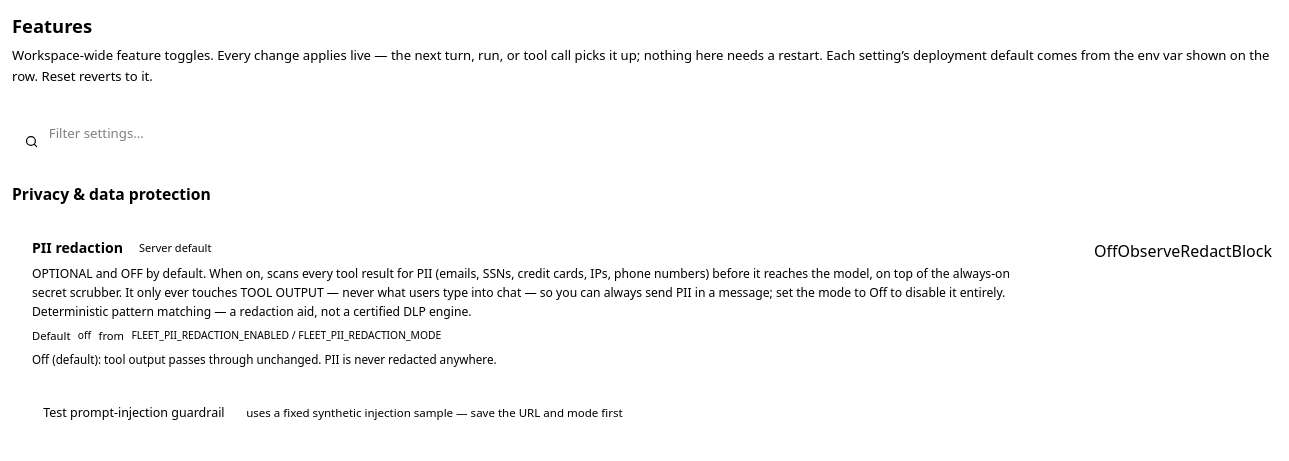
FeaturesAdminPage › surfaces a server rejection as a row error and keeps the old value
Click the button "Block" at (1252, 251), box [1232,239,1272,263]
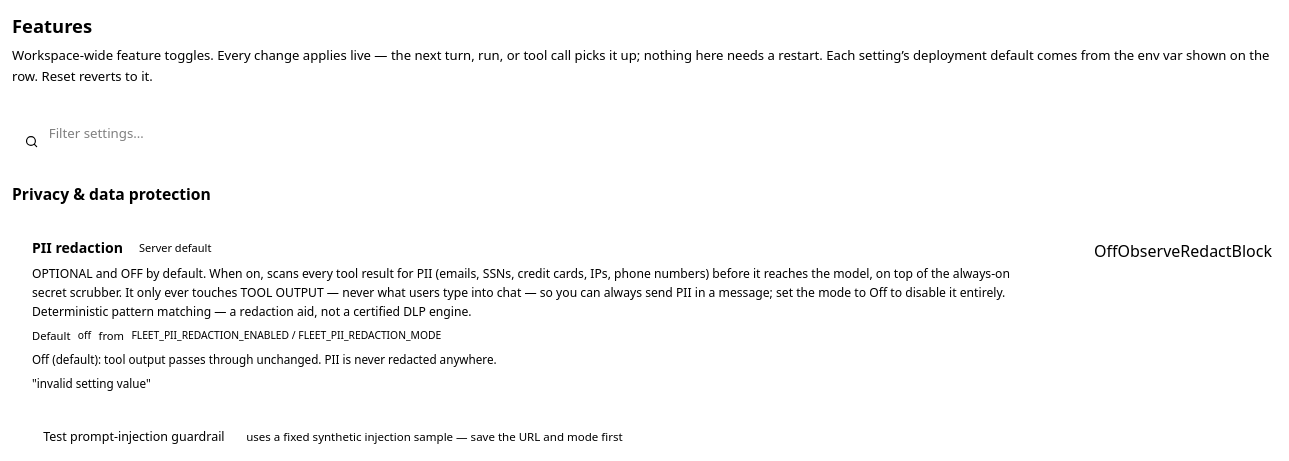
Expected: the message shows "invalid setting value", [32,376,151,391]
